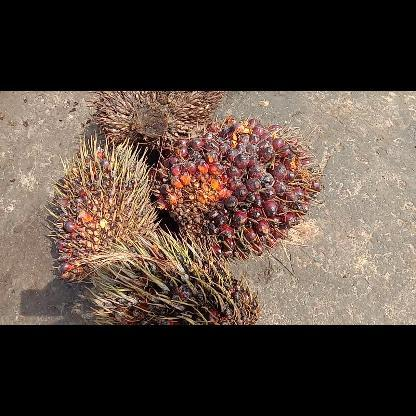Kurang masak: (71, 228, 258, 324)
TBS abnormal: (47, 138, 161, 280), (89, 90, 227, 148)
Terlalu masak: (150, 116, 322, 258)
